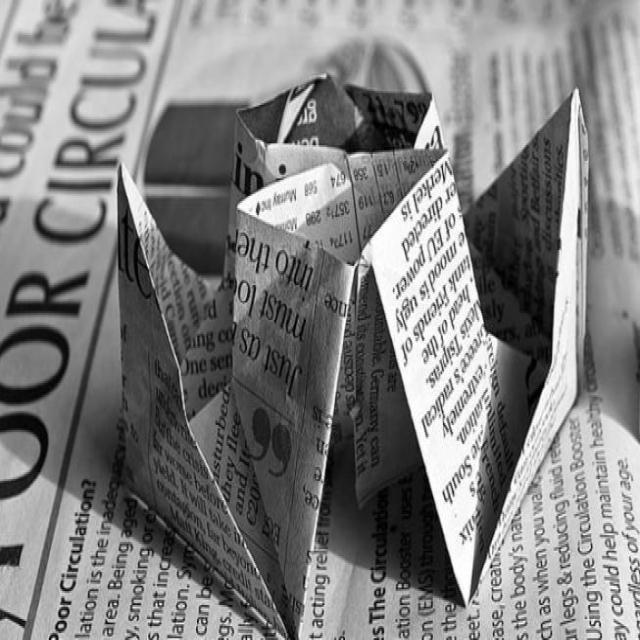Kertas: (108, 40, 606, 624)
